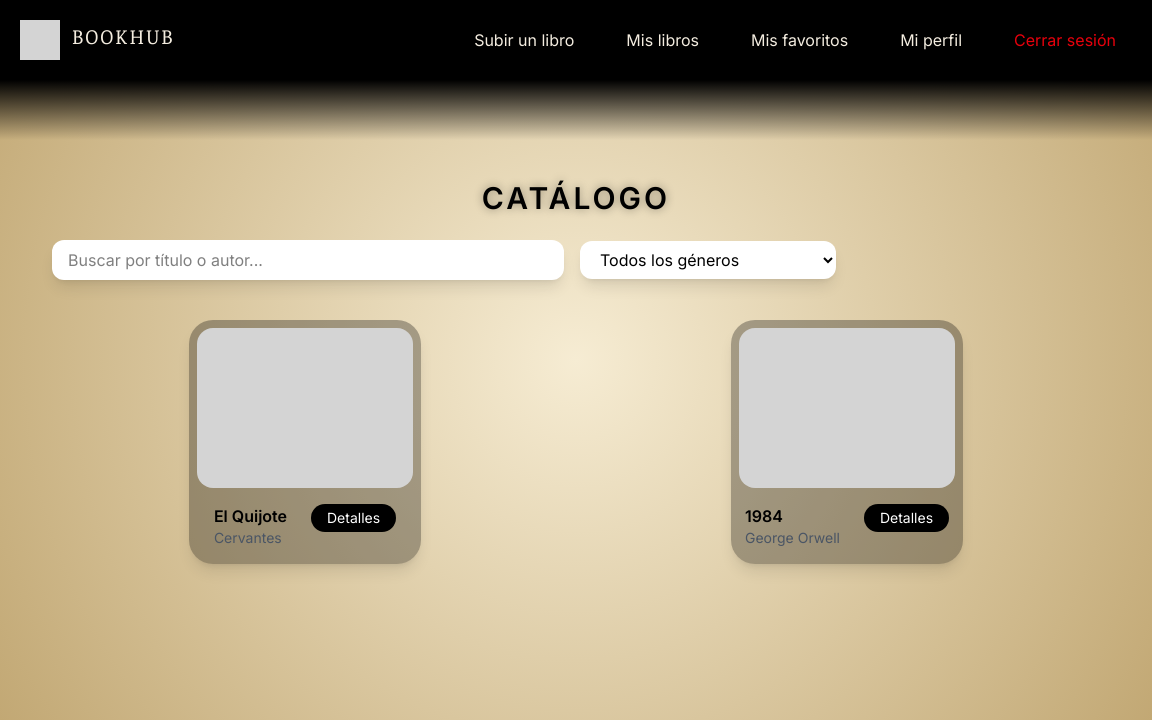
Test: Home page › muestra mensaje si la búsqueda no encuentra libros
Type "NoExiste" into the field with placeholder "Buscar por título o autor...".
click(308, 260); type("NoExiste")  # box [52,240,564,280]
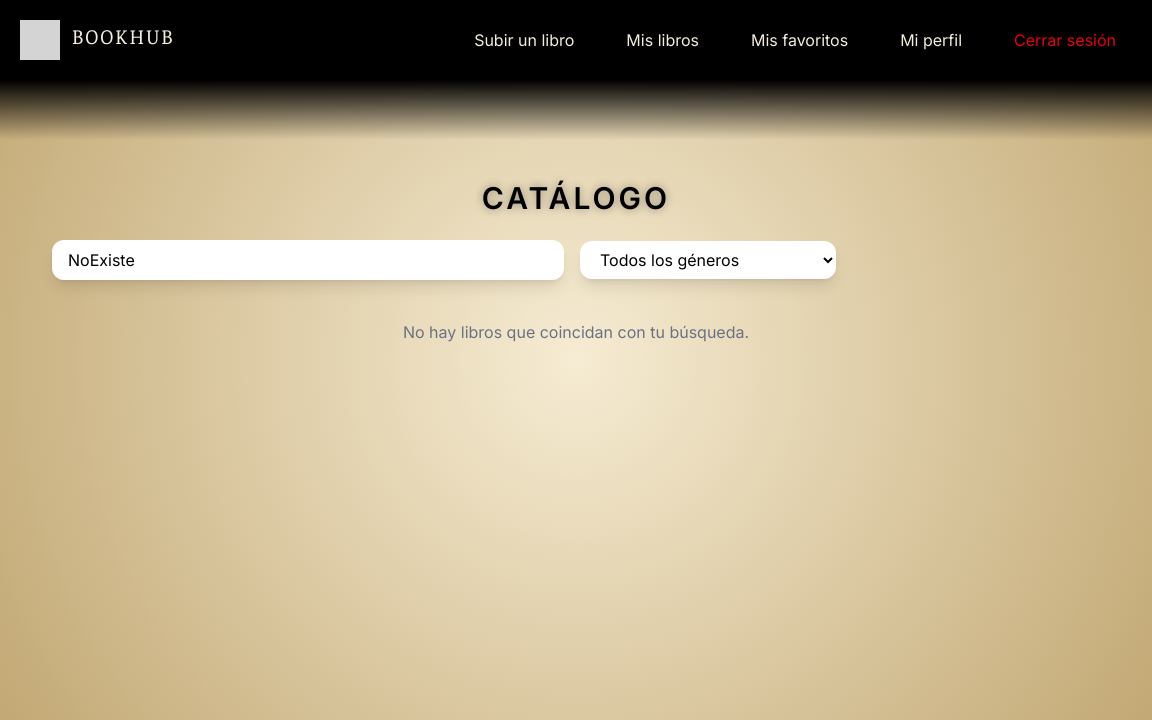
Expected: the text "No hay libros que coincidan con tu búsqueda." is shown, [403,320,749,344]
